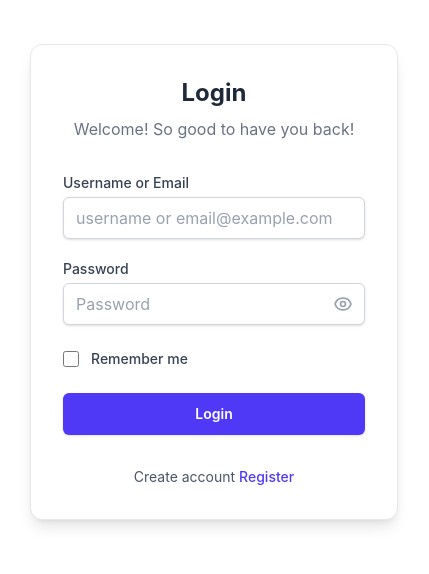
Login Component › should handle API response with only message (no token)
Type "test@test.com" into the field with id "email" at coordinates (214, 218), box [63, 197, 365, 239]
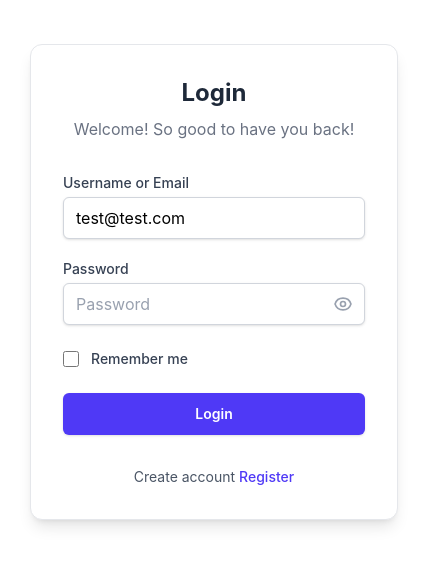
Type "password123" into the password field with placeholder "Password" at coordinates (214, 304), box [63, 283, 365, 325]
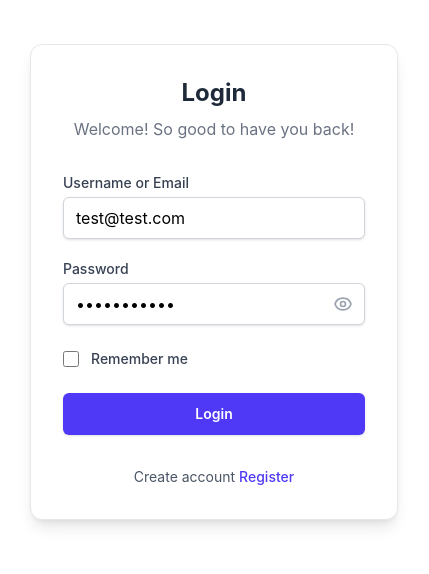
Submit the form
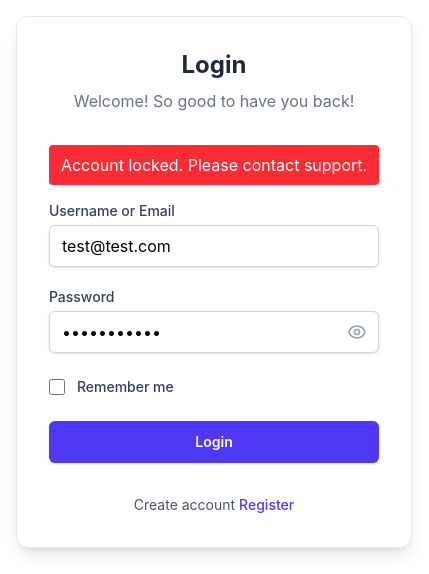
Check: the text "Account locked. Please contact support." is shown, box [61, 153, 367, 177]
